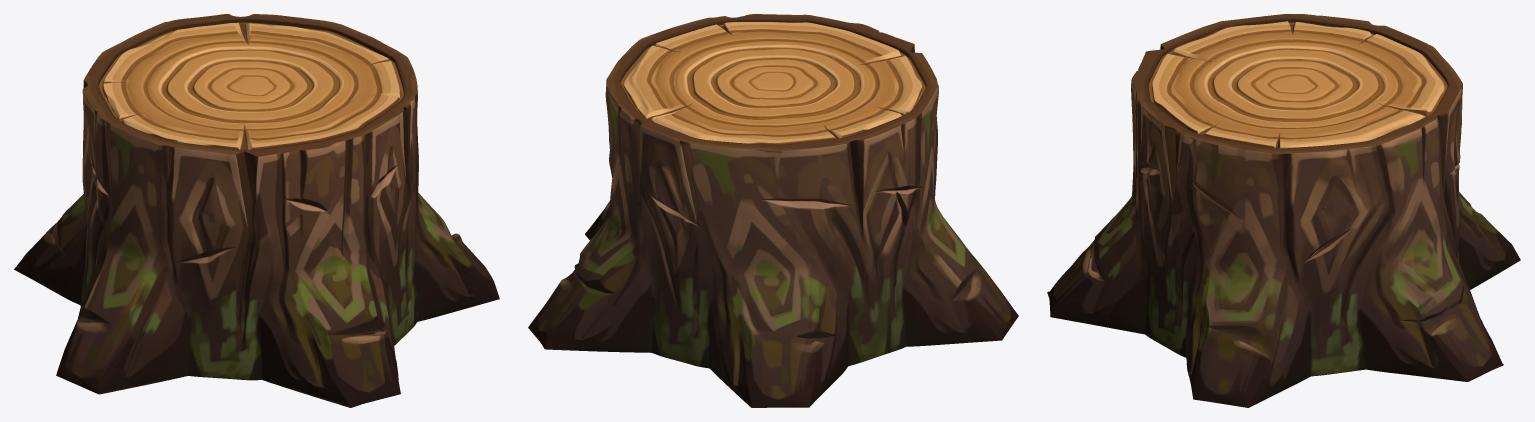
Rendered from Meshy_AI_Stylized_fantasy_survival_RPG_freshly_20261105_texture.fbx.
The picture shows the model from 3 angles, left to right: view 1: azimuth 30°, elevation 25°; view 2: azimuth 150°, elevation 25°; view 3: azimuth 270°, elevation 25°; orthographic projection.
Visible parts, largest first — view 1: Mesh_0; view 2: Mesh_0; view 3: Mesh_0.
Part boxes in pixels (<box>): Mesh_0: <box>14,14,499,407</box>; Mesh_0: <box>528,14,1018,407</box>; Mesh_0: <box>1047,14,1520,407</box>.
Size of the model in its own units: 190 by 95.6 by 185.
1 material, 1 textured.
